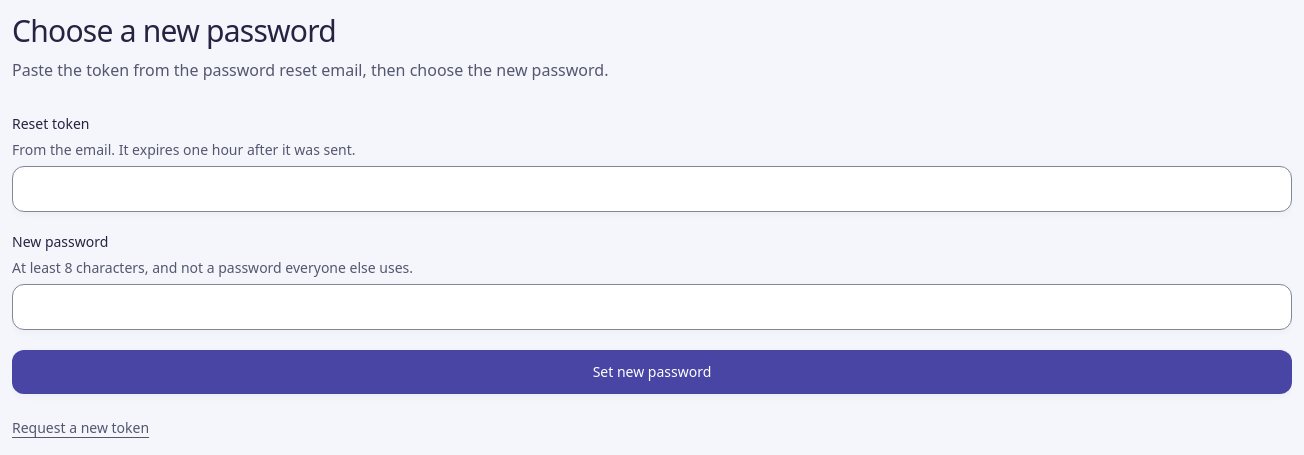
Test case: a visit with no token in the URL › sends the pasted token, and only on submission
Type "Zm9yZ2V0dGFibGUtcmVzZXQtdG9rZW4tOTk5" into the field labelled "Reset token" at [652, 188], box [12, 166, 1292, 212]
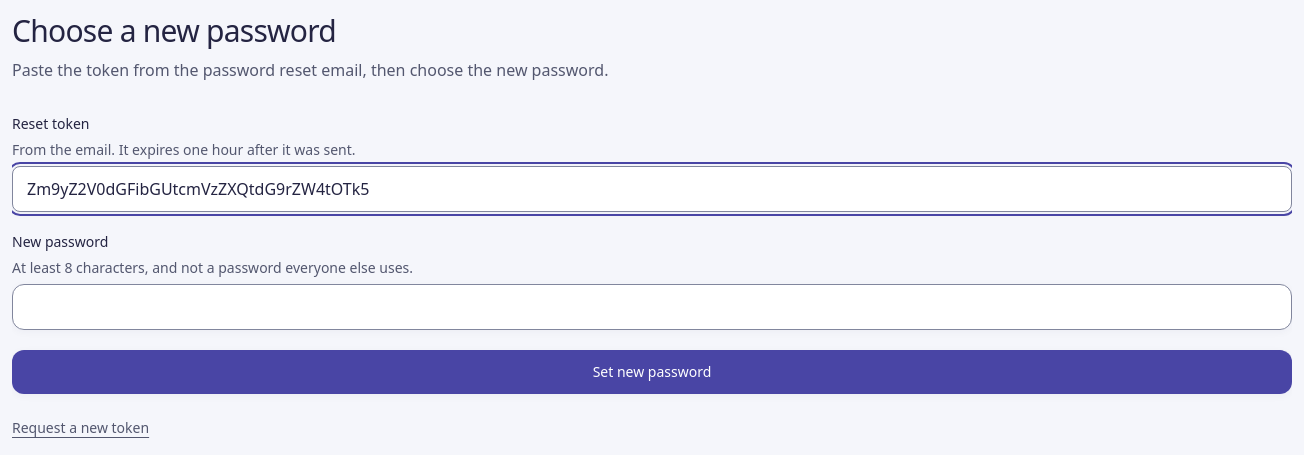
Type "a long enough password" into the password field labelled "New password" at [652, 306], box [12, 284, 1292, 330]
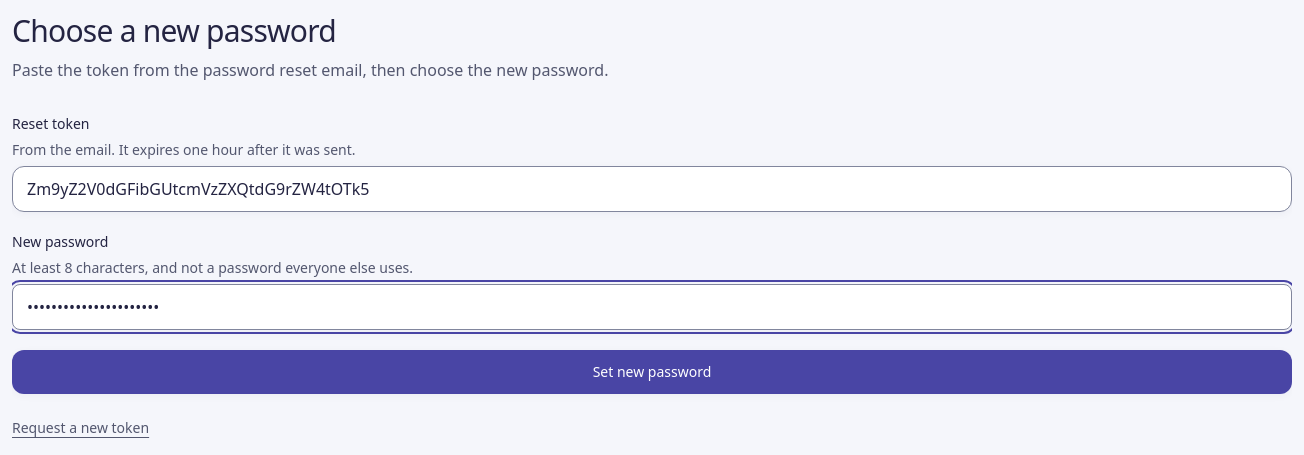
Click the button "Set new password" at [652, 372], box [12, 350, 1292, 394]
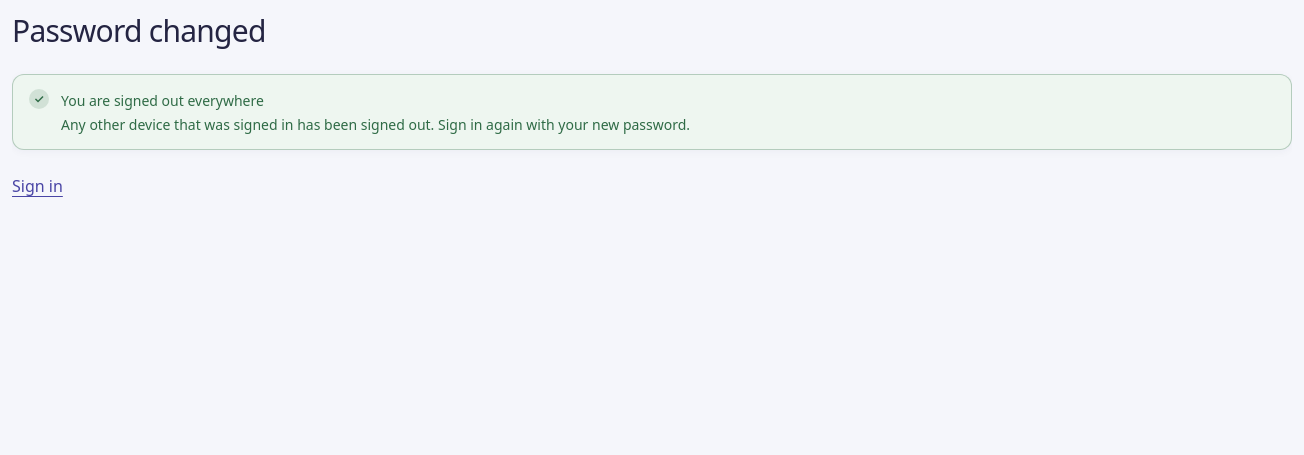
Now the message is shown, box [12, 74, 1292, 150]
